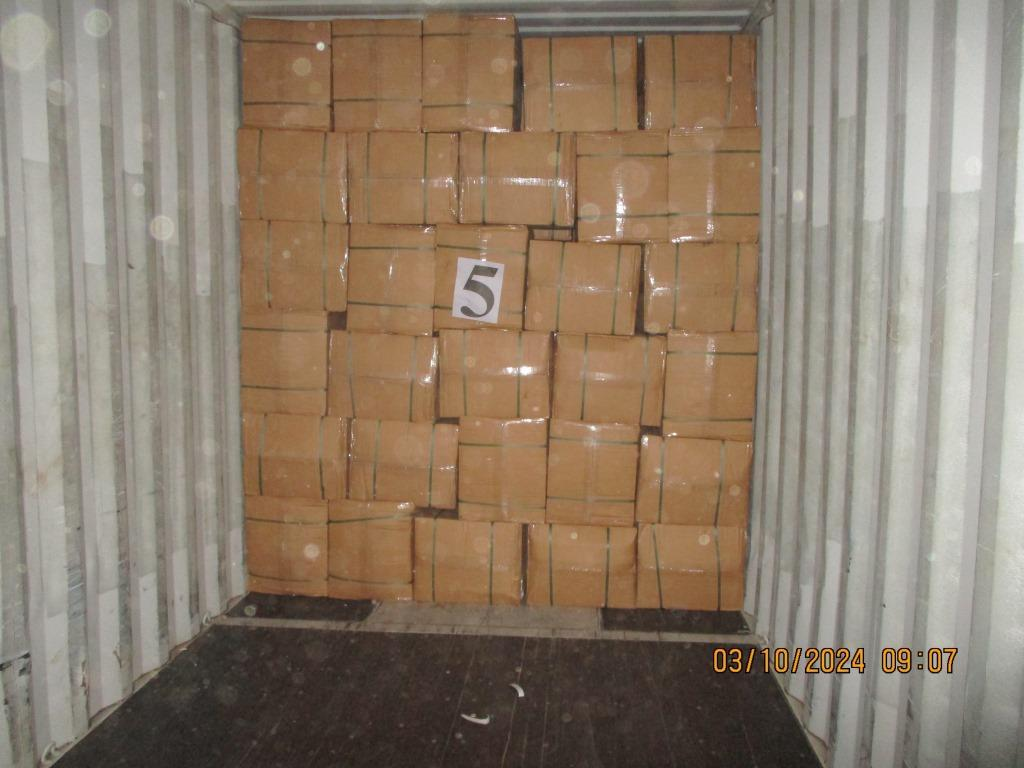carton: (457, 131, 576, 232), (422, 12, 517, 132), (524, 240, 642, 335), (642, 33, 757, 129), (522, 35, 638, 130), (240, 309, 344, 414), (634, 435, 752, 526), (667, 126, 760, 241), (551, 333, 667, 425), (236, 128, 348, 223), (438, 328, 553, 419), (643, 242, 758, 333), (241, 17, 332, 131), (576, 130, 668, 242), (545, 417, 640, 525), (347, 132, 458, 224), (331, 19, 422, 131), (346, 222, 435, 336), (347, 419, 458, 510), (434, 223, 528, 330), (240, 219, 349, 311), (327, 330, 438, 420), (635, 523, 746, 610), (457, 416, 547, 523), (664, 330, 758, 431), (412, 518, 522, 604), (241, 412, 349, 499), (524, 523, 635, 607), (328, 499, 413, 601), (244, 499, 328, 595)
